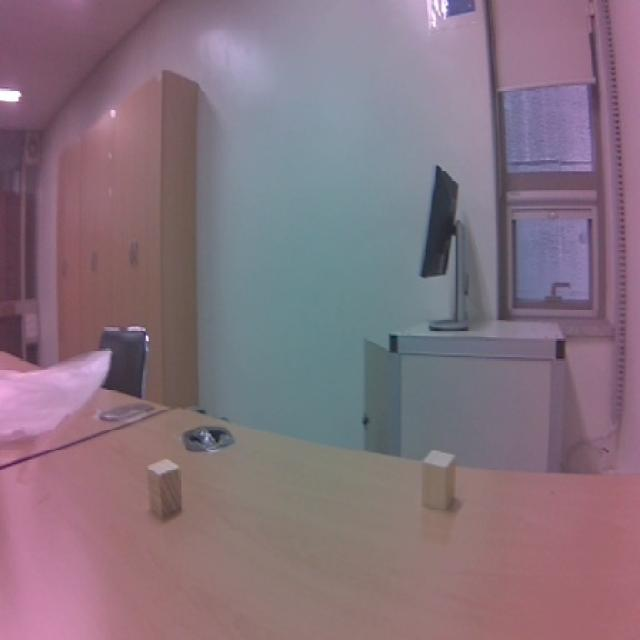obstacle: (402, 441, 467, 518), (142, 446, 183, 530)
